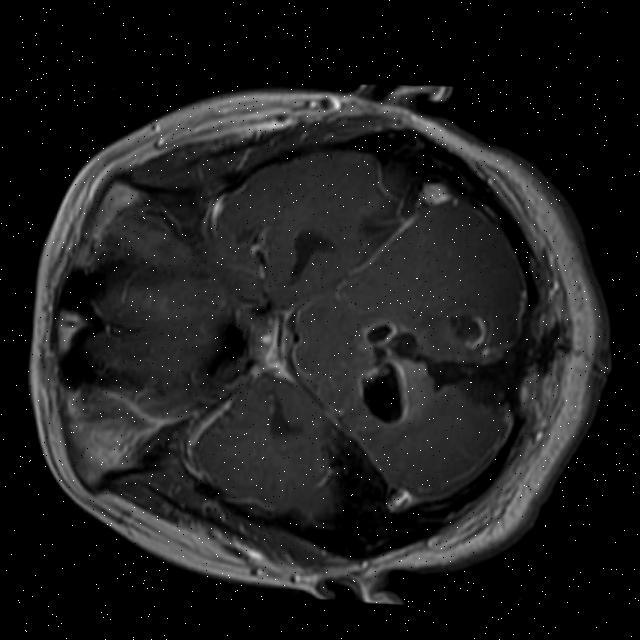Glioma: (353, 319, 414, 425), (445, 310, 490, 347)
